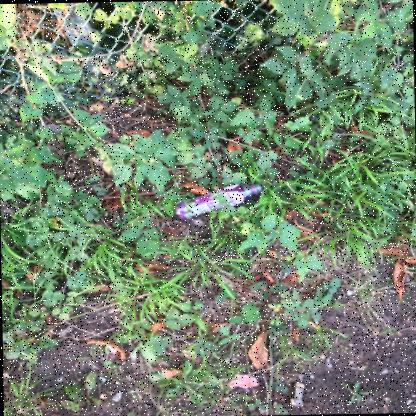Clear plastic bottle: (175, 183, 261, 220)
